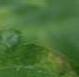Tomato mold leaf: (0, 3, 79, 77)
